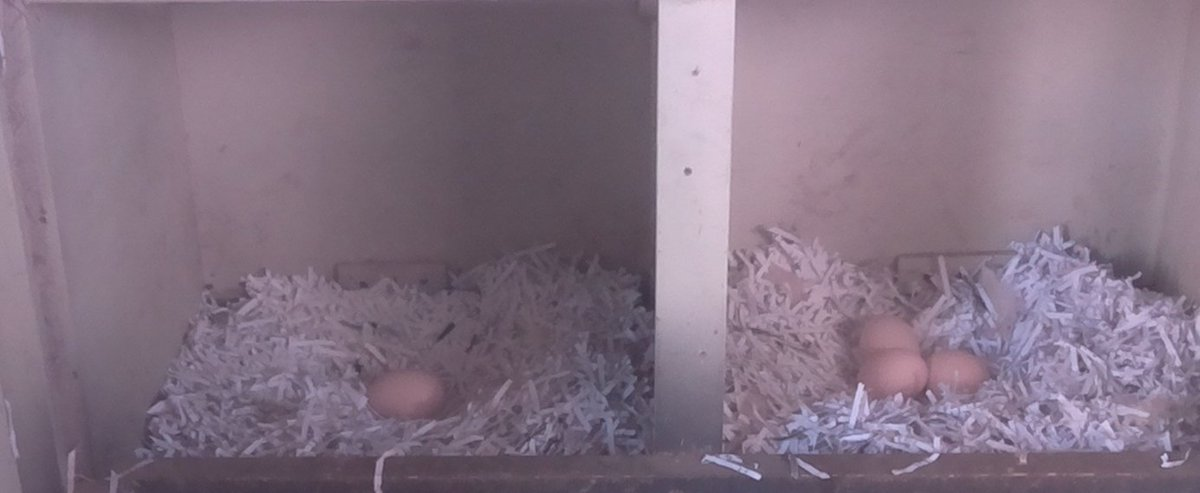egg: (361, 362, 449, 422), (854, 348, 931, 399), (925, 348, 993, 401), (850, 312, 921, 359)
